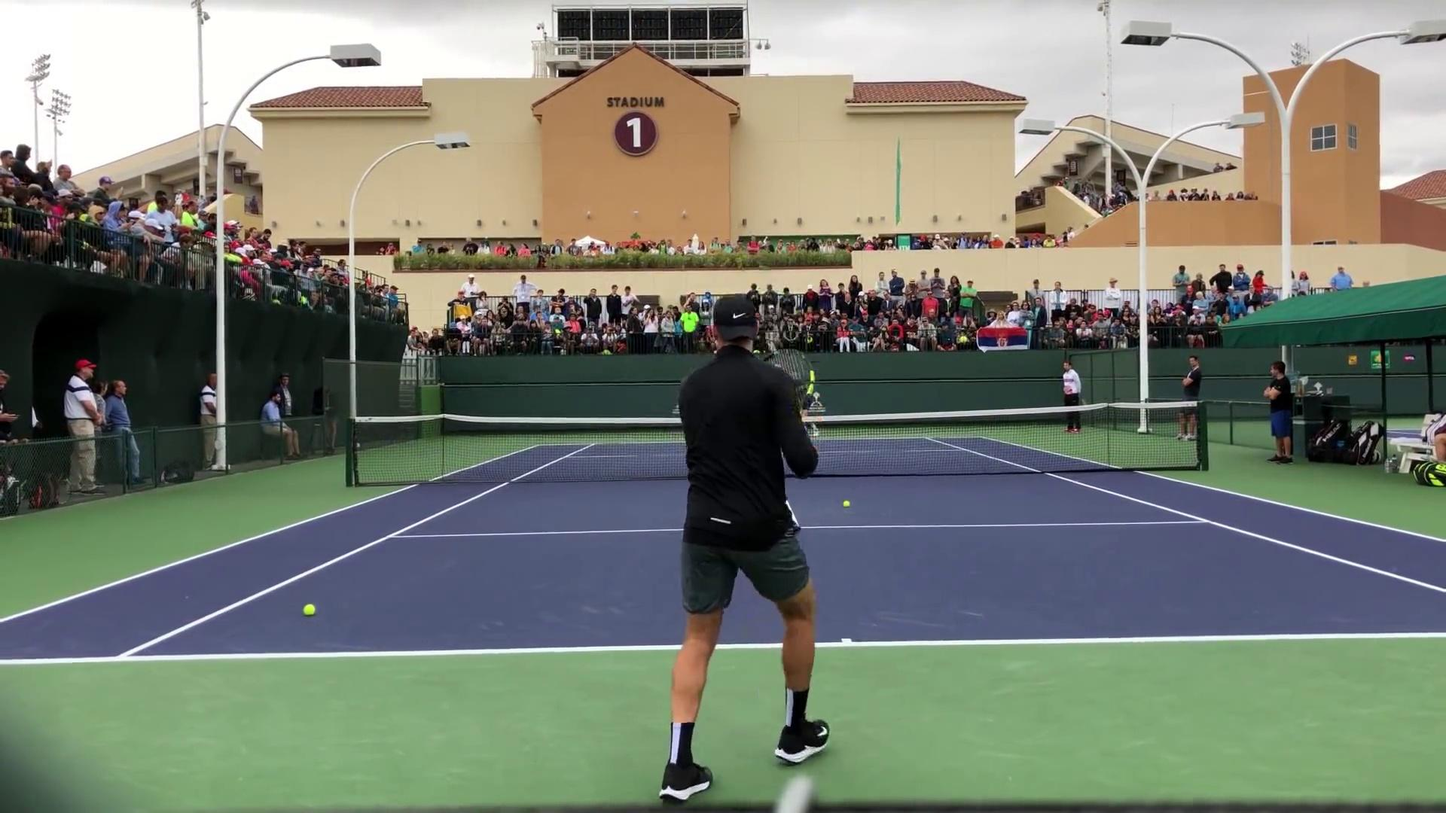ball: (303, 604, 315, 616), (843, 499, 850, 508)
